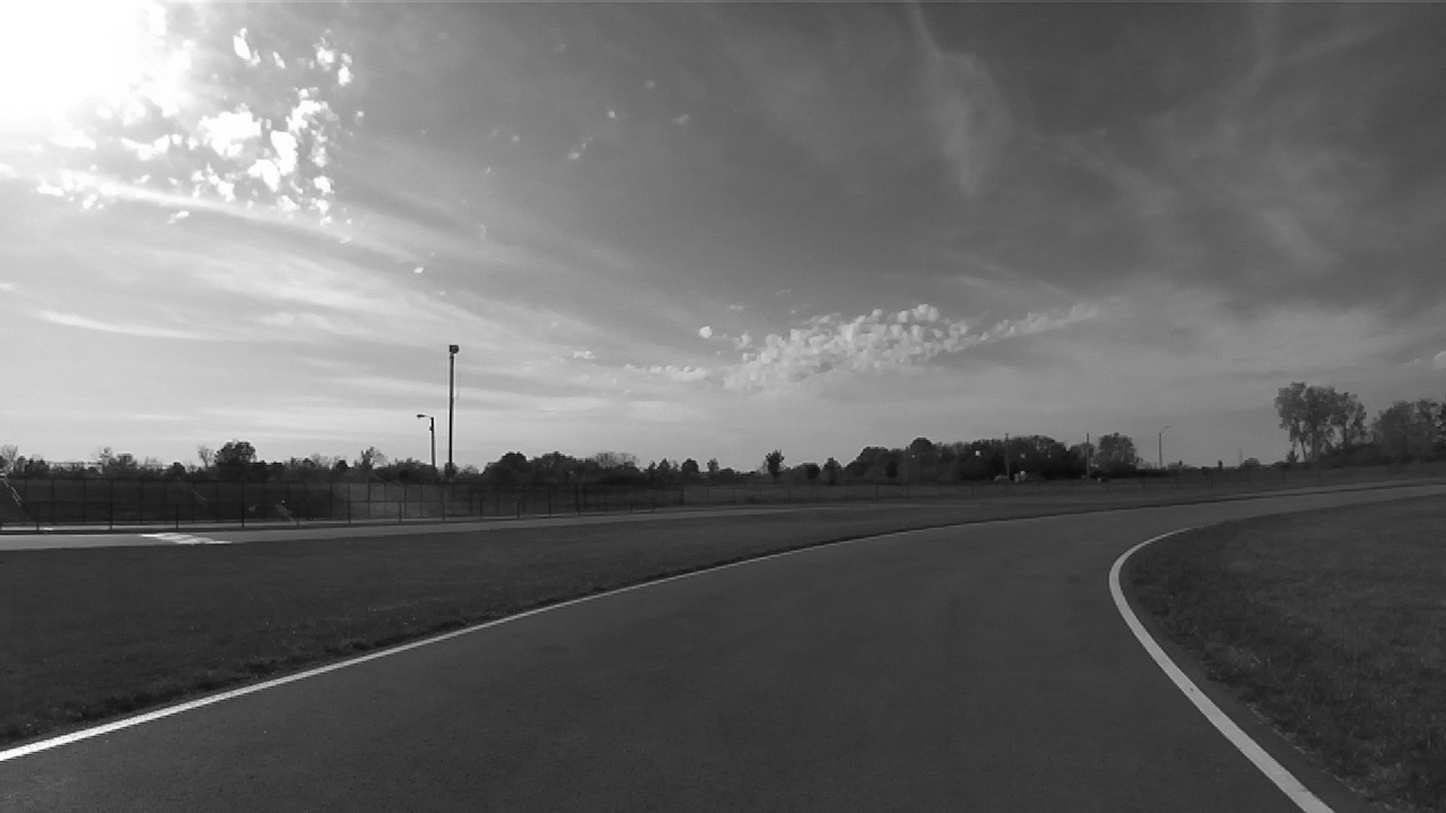white-line: (0, 521, 1008, 763), (1108, 525, 1334, 812)
